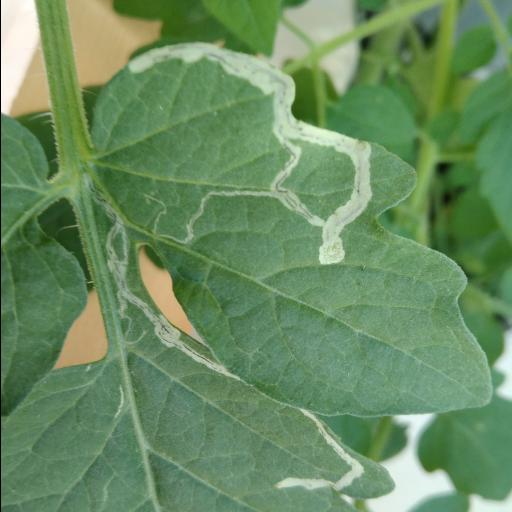disease_tomato: (90, 39, 498, 512)
